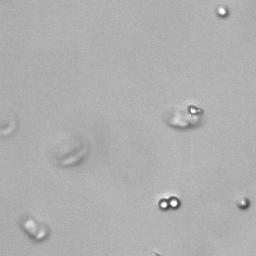contamination: (155, 193, 183, 212), (234, 194, 251, 212)
individual: (186, 101, 205, 119), (215, 5, 231, 20)
